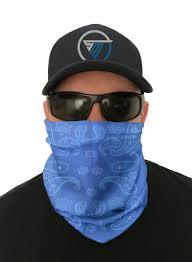cap: (44, 20, 158, 96)
scarf-kerchief: (34, 113, 161, 255)
sunglasses: (41, 87, 156, 128)
